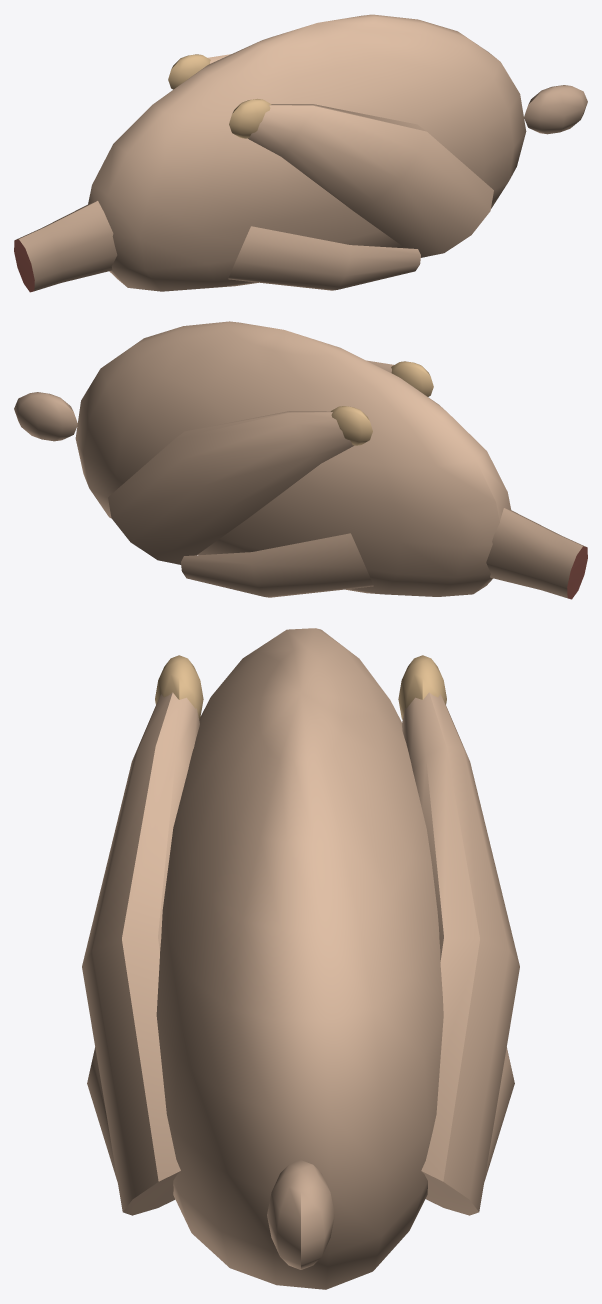
The model's file is heath_grouse_whole.glb.
The picture shows the model from 3 angles, top to bottom: view 1: azimuth 30°, elevation 25°; view 2: azimuth 150°, elevation 25°; view 3: azimuth 270°, elevation 25°; orthographic projection. The views are drawn at different scales.
Visible parts, largest first — view 1: heath_grouse_whole; view 2: heath_grouse_whole; view 3: heath_grouse_whole.
Part boxes in pixels (x1,y1,x2,y2): heath_grouse_whole: [14, 14, 587, 292]; heath_grouse_whole: [14, 321, 587, 599]; heath_grouse_whole: [82, 628, 519, 1289].
Bounding box in the file's own units: 0.18 × 0.07 × 0.06.
